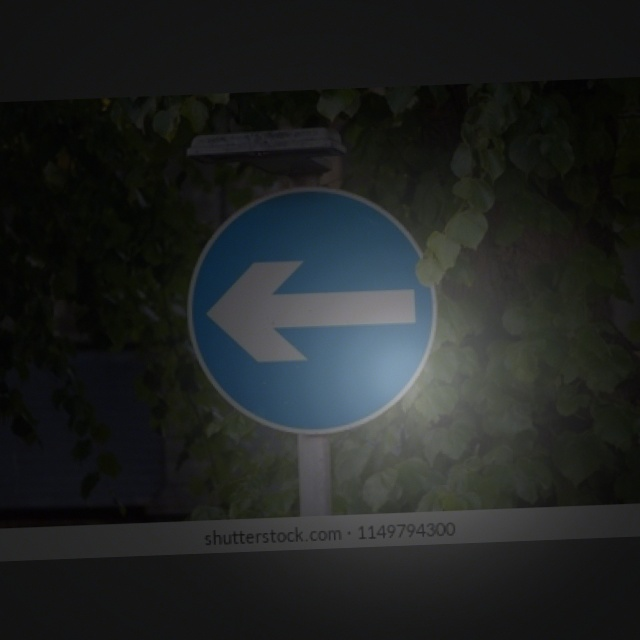Compulsory_Turn_Left: (187, 178, 439, 440)
